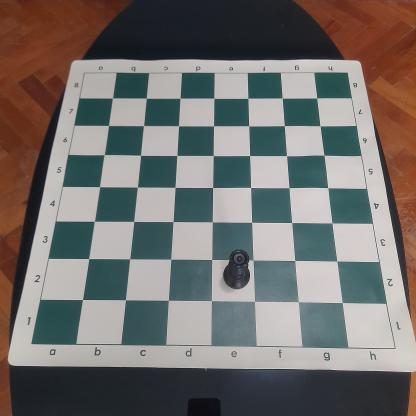black-queen: (222, 248, 252, 293)
